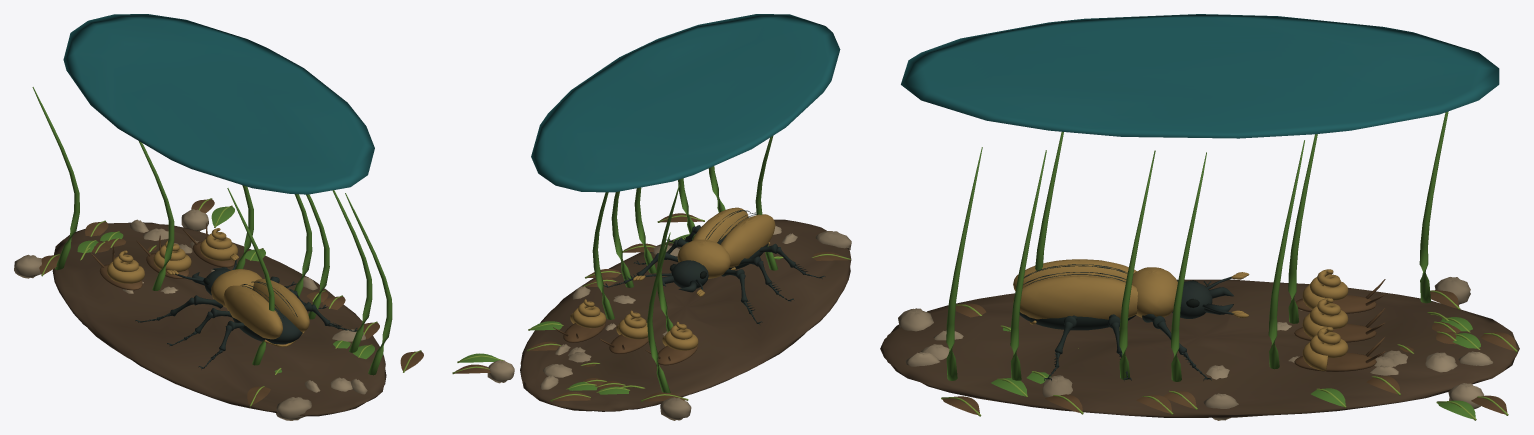
The picture shows the model from 3 angles, left to right: view 1: azimuth 30°, elevation 25°; view 2: azimuth 150°, elevation 25°; view 3: azimuth 270°, elevation 25°; orthographic projection. The views are drawn at different scales.
Parts seen in each view (by area): view 1: B07_SPEC_Bark_export; view 2: B07_SPEC_Bark_export; view 3: B07_SPEC_Bark_export.
Boxes of the visible parts, x1,y1,x2,y2 form: B07_SPEC_Bark_export: (14,14,423,420); B07_SPEC_Bark_export: (452,14,851,420); B07_SPEC_Bark_export: (880,14,1519,420).
Size of the model in its own units: 1.14 by 1.07 by 2.16.
